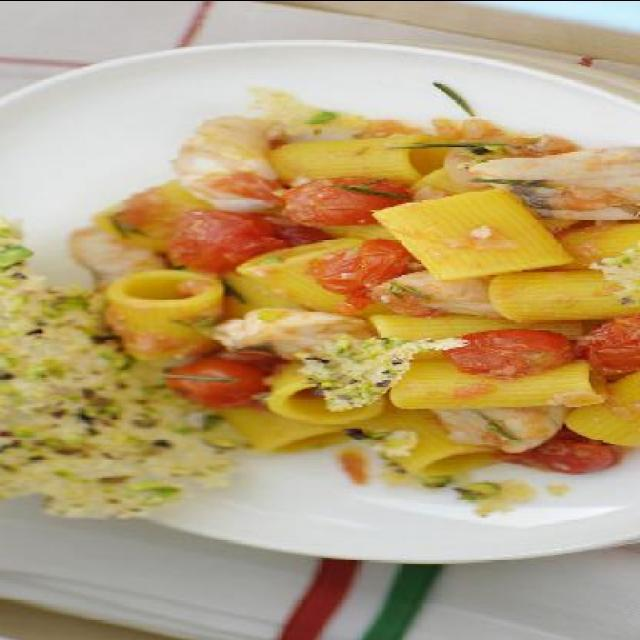Pasta al ragu: (22, 44, 626, 536)
